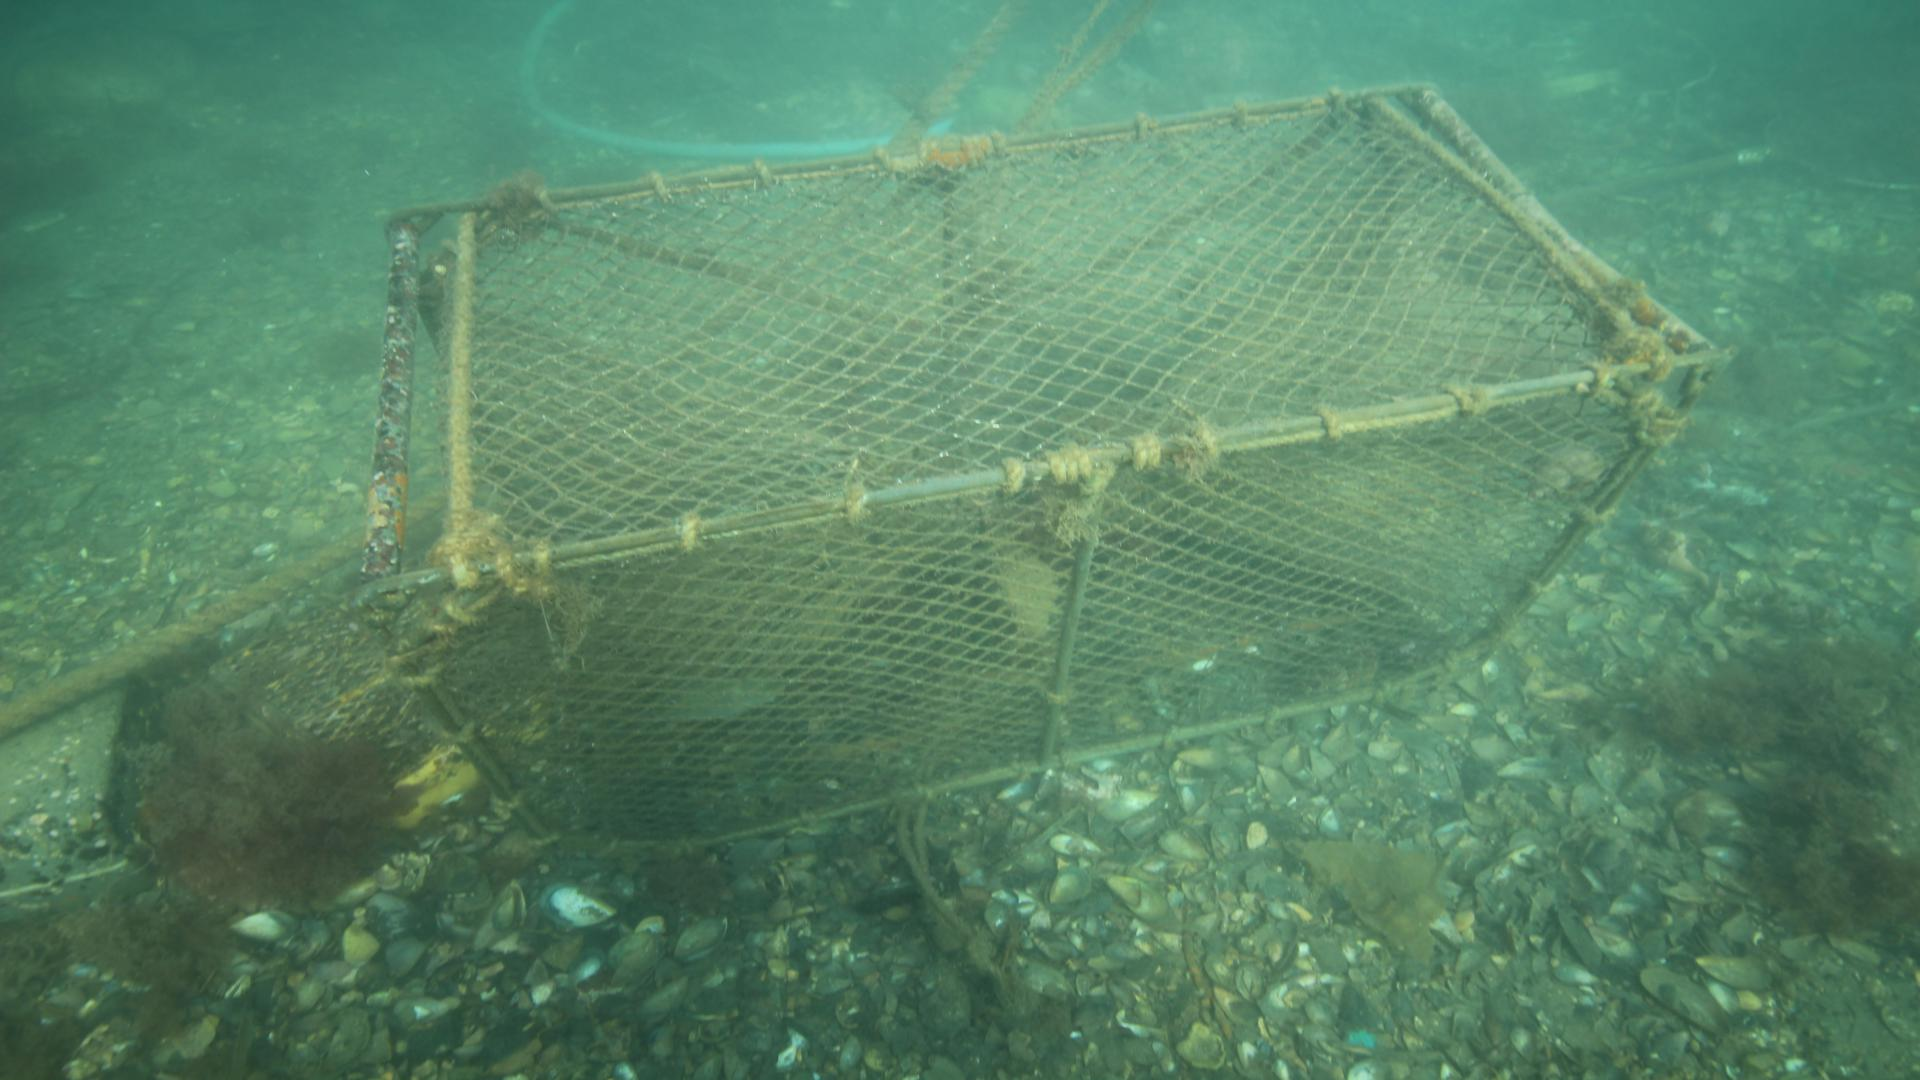bundle of ropes: (899, 0, 1174, 117)
rectangular fish trap: (356, 76, 1724, 862)
rope: (0, 524, 360, 737)
